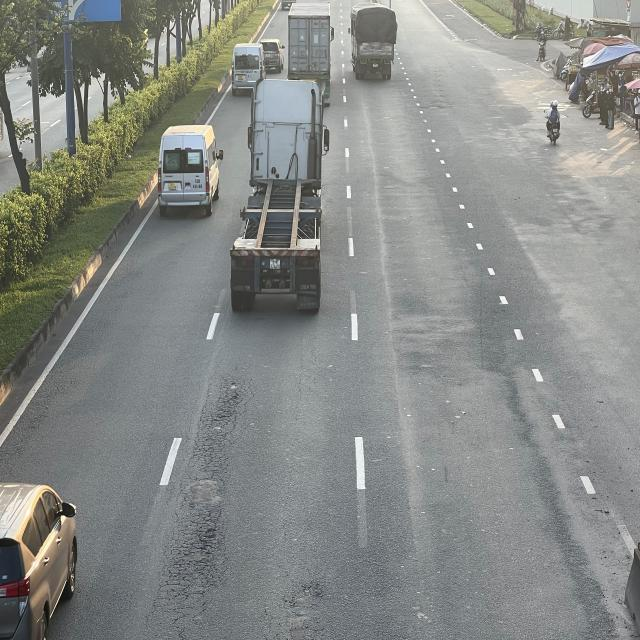car: (0, 482, 78, 640)
container: (231, 77, 330, 314), (287, 0, 332, 76)
truck: (349, 4, 397, 82)
van: (160, 123, 226, 215), (232, 44, 266, 95)
